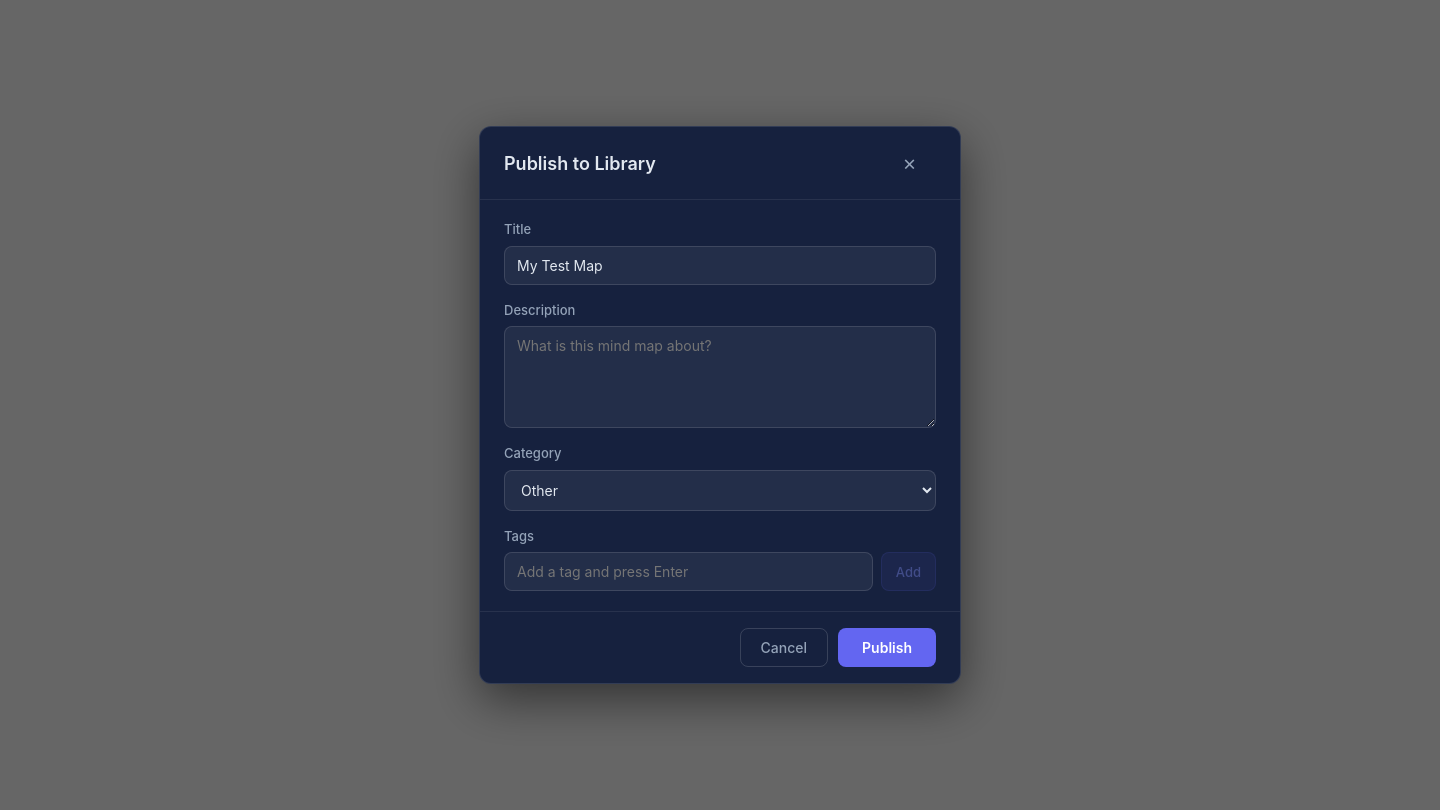
PublishModal › title field is required — shows error when empty
The width and height of the screenshot is (1440, 810).
# Clear the pre-filled title
Clear the field showing "My Test Map": [720, 265] box [504,246,936,284]
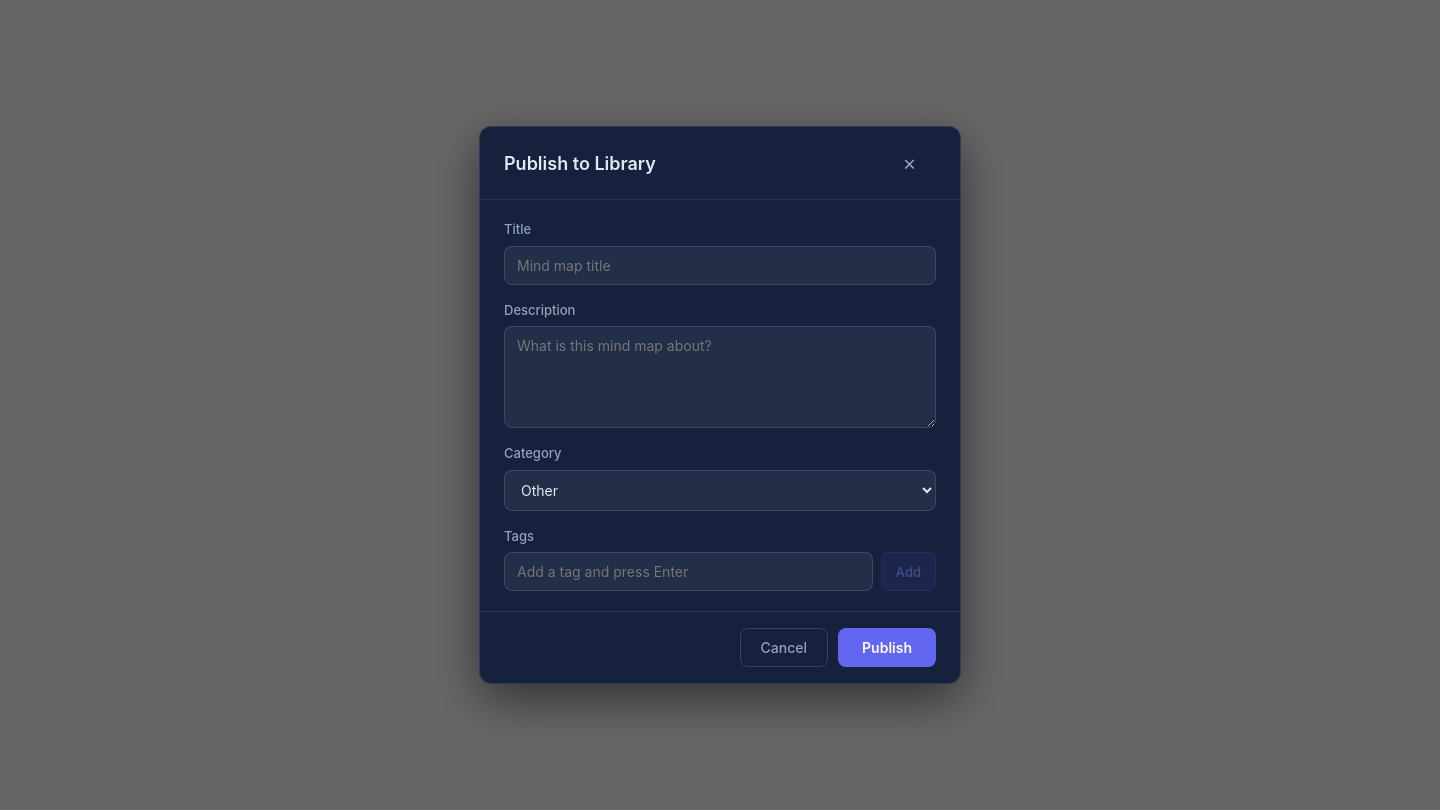
# Click publish
Click the button "Publish": [887, 648] box [838,628,936,667]
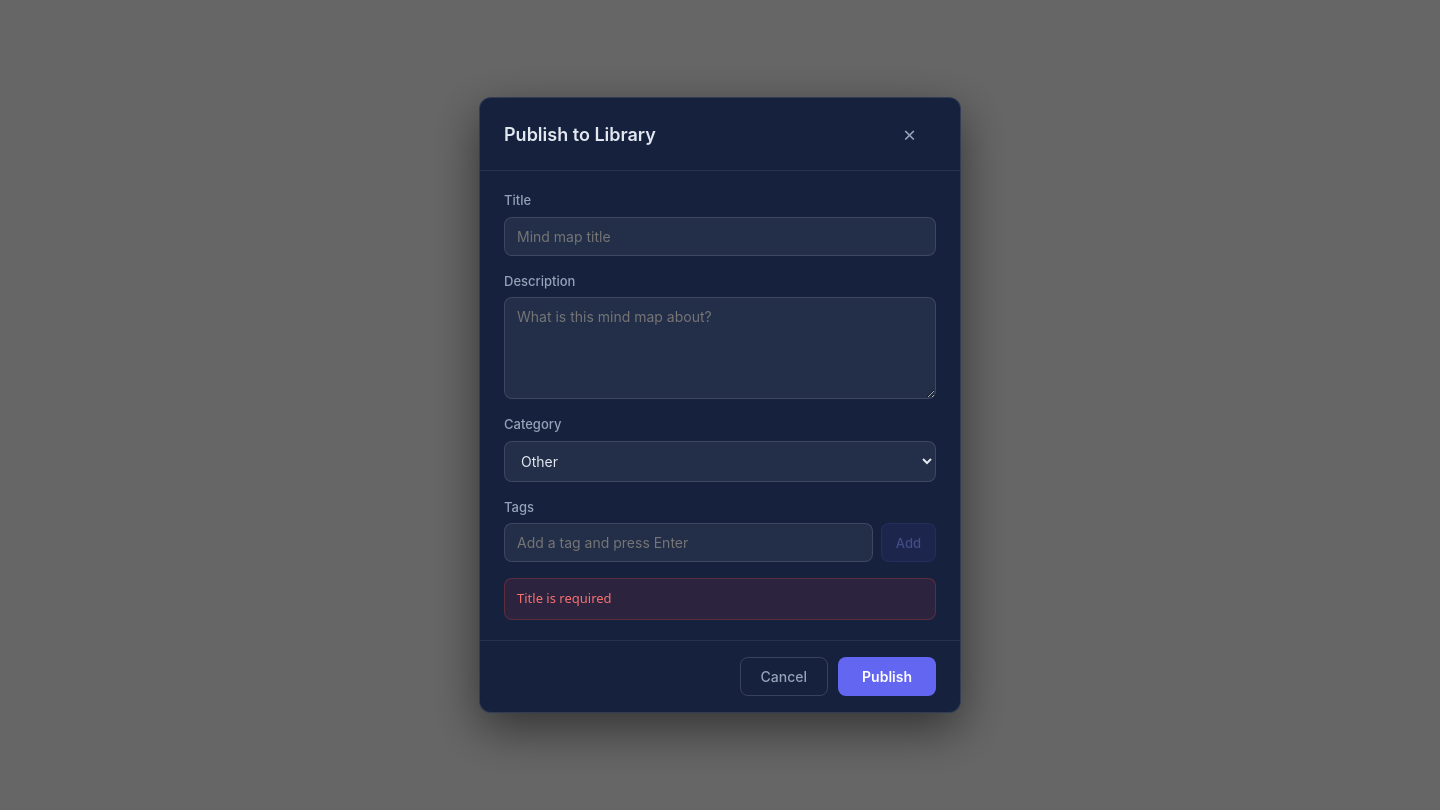
Result: the text "Title is required" is shown at [504,578,936,620]
